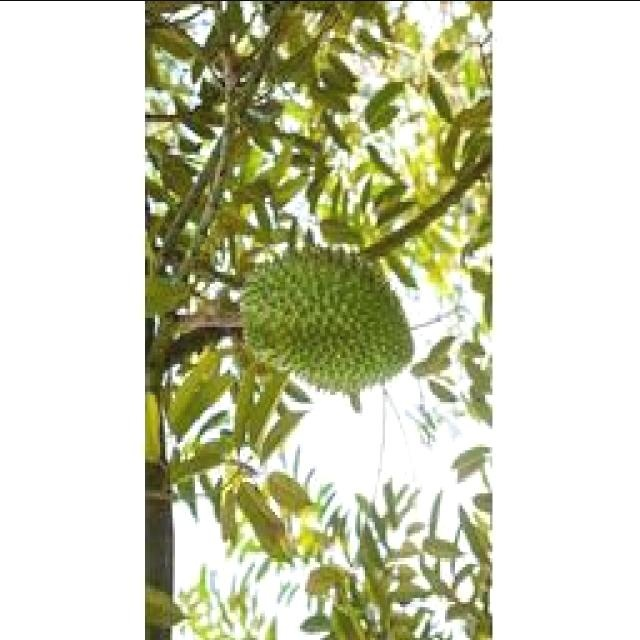agrume: (233, 240, 415, 403)
